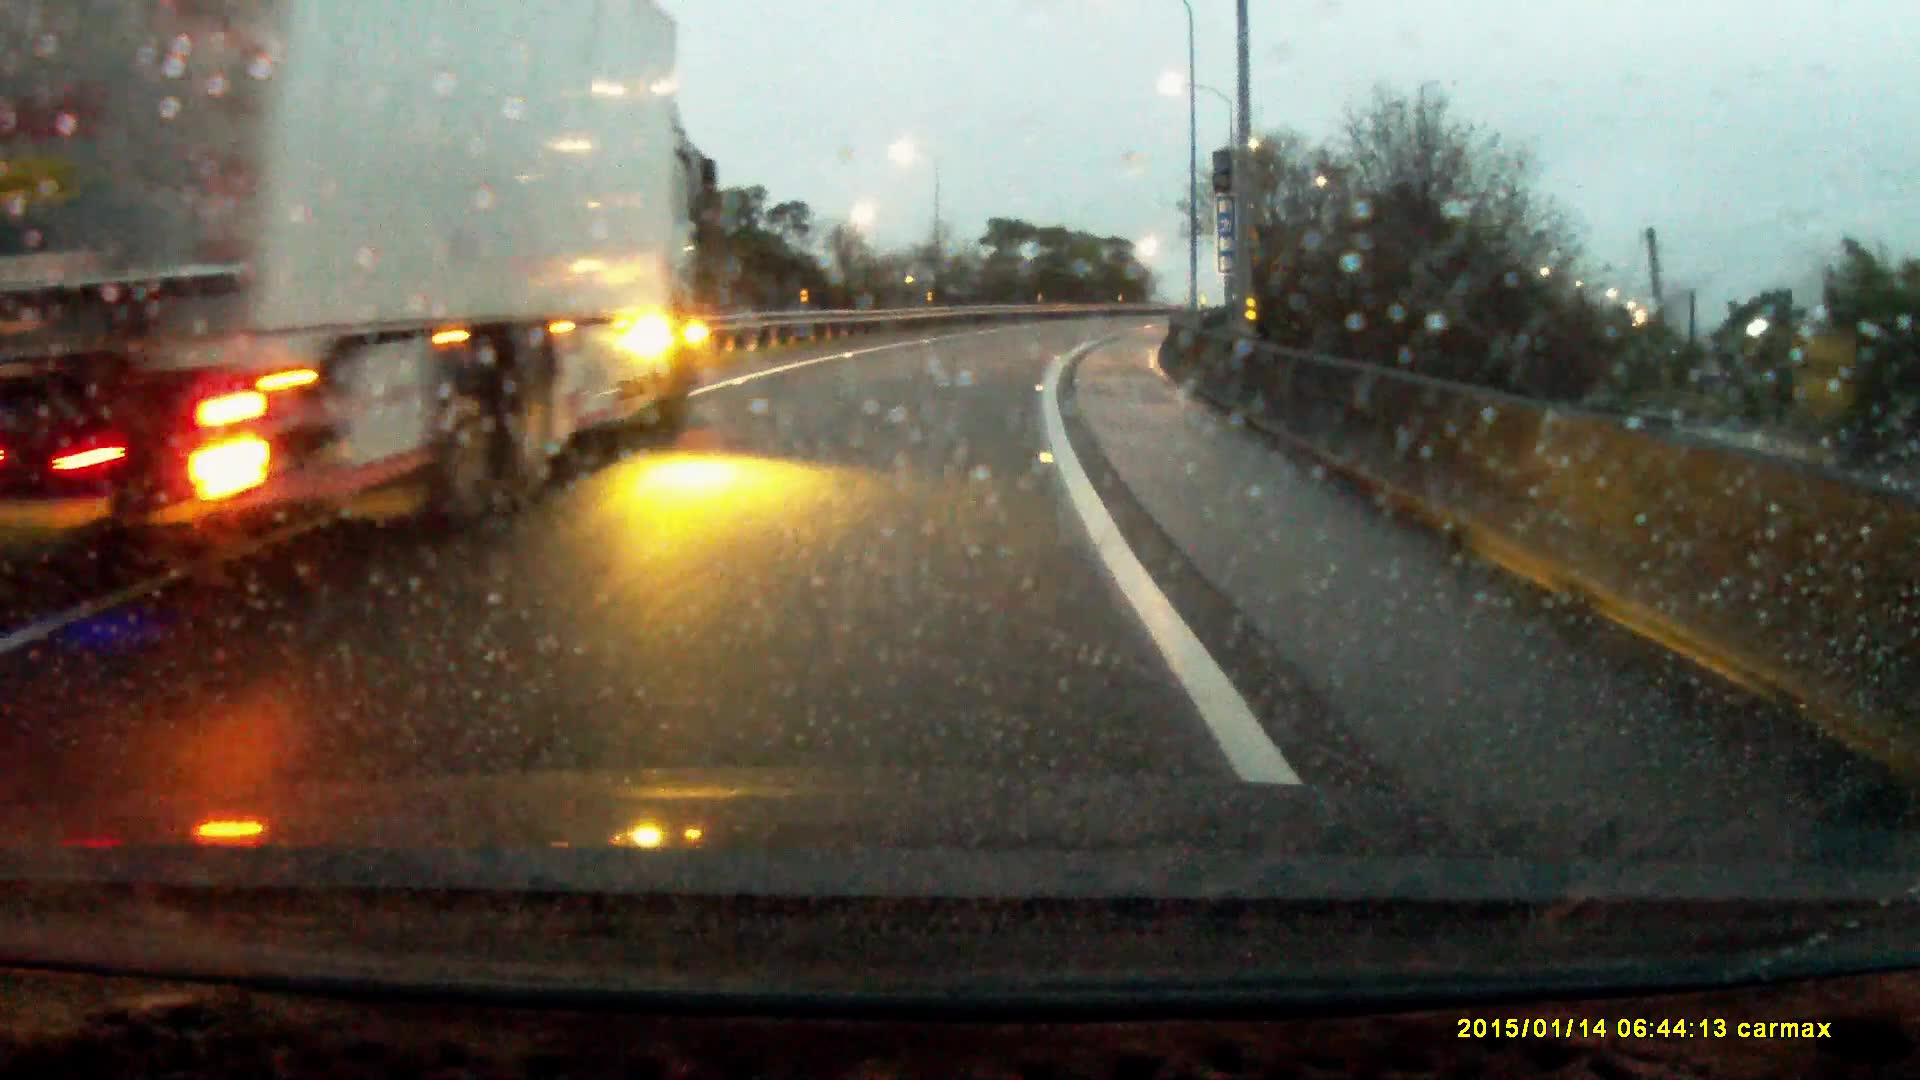vehicle: (13, 1, 709, 582)
